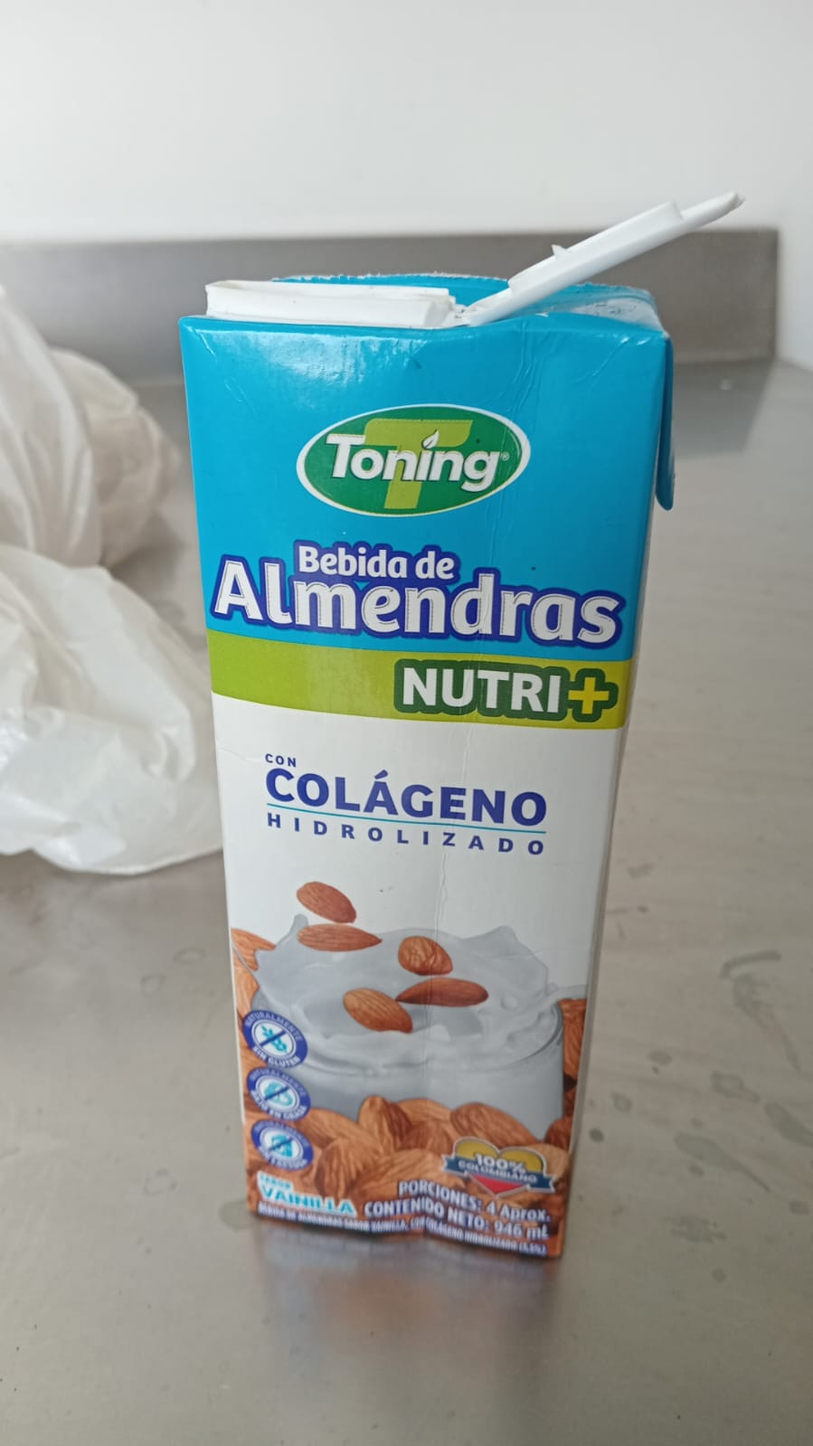Carton: (182, 276, 672, 1269)
